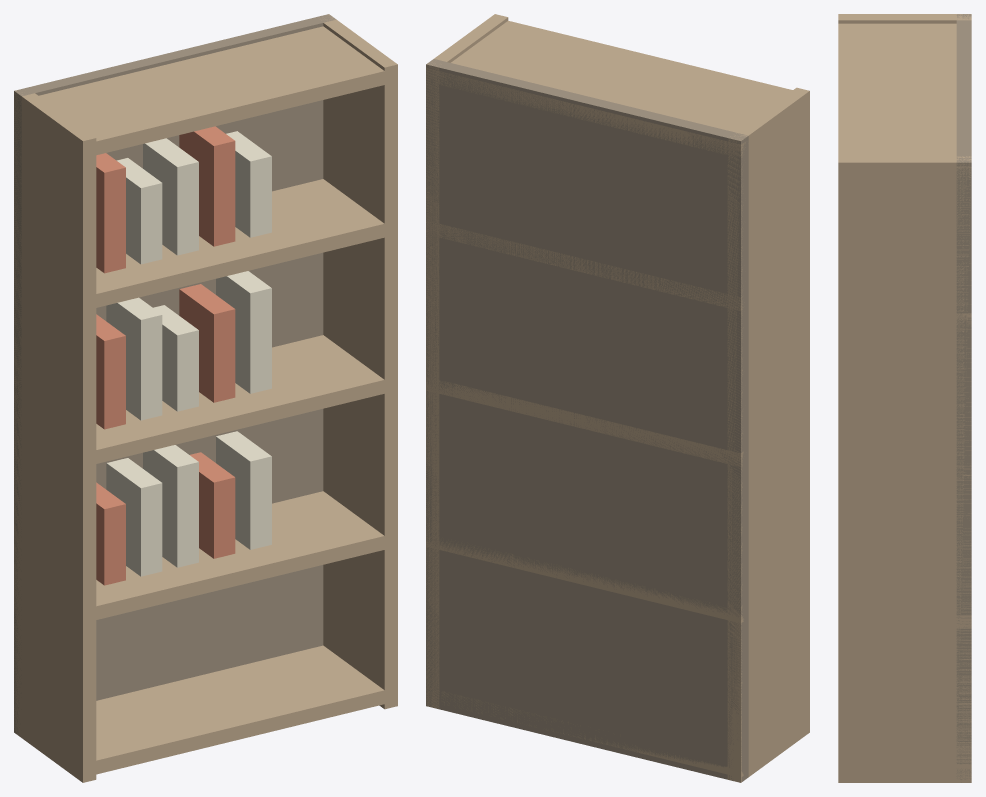
The picture shows the model from 3 angles, left to right: view 1: azimuth 30°, elevation 25°; view 2: azimuth 150°, elevation 25°; view 3: azimuth 270°, elevation 25°; orthographic projection. The views are drawn at different scales.
Parts seen in each view (by area): view 1: Bookshelf_01/Side_1, Bookshelf_01/Back_0, Bookshelf_01/Side_2, Bookshelf_01/Shelf_7, Bookshelf_01/Shelf_3, Bookshelf_01/Shelf_5, Bookshelf_01/Shelf_6, Bookshelf_01/Shelf_4, Bookshelf_01/Book_1_1_14, Bookshelf_01/Book_1_4_17, Bookshelf_01/Book_0_2_10, Bookshelf_01/Book_2_3_21 (+11 smaller); view 2: Bookshelf_01/Back_0, Bookshelf_01/Side_1, Bookshelf_01/Shelf_7, Bookshelf_01/Side_2, Bookshelf_01/Shelf_5, Bookshelf_01/Shelf_6, Bookshelf_01/Shelf_4, Bookshelf_01/Shelf_3; view 3: Bookshelf_01/Side_2, Bookshelf_01/Shelf_7, Bookshelf_01/Back_0, Bookshelf_01/Shelf_4, Bookshelf_01/Shelf_6, Bookshelf_01/Side_1, Bookshelf_01/Shelf_3, Bookshelf_01/Shelf_5.
Part boxes in pixels (left/top/right/bottom): Bookshelf_01/Side_1: left=14, top=90, right=96, bottom=782; Bookshelf_01/Back_0: left=14, top=14, right=336, bottom=735; Bookshelf_01/Side_2: left=320, top=14, right=397, bottom=709; Bookshelf_01/Shelf_7: left=22, top=26, right=397, bottom=158; Bookshelf_01/Shelf_3: left=59, top=645, right=397, bottom=777; Bookshelf_01/Shelf_5: left=14, top=335, right=397, bottom=466; Bookshelf_01/Shelf_6: left=22, top=179, right=397, bottom=310; Bookshelf_01/Shelf_4: left=14, top=491, right=397, bottom=623; Bookshelf_01/Book_1_1_14: left=106, top=297, right=162, bottom=420; Bookshelf_01/Book_1_4_17: left=216, top=271, right=271, bottom=393; Bookshelf_01/Book_0_2_10: left=143, top=445, right=198, bottom=567; Bookshelf_01/Book_2_3_21: left=179, top=126, right=235, bottom=246; Bookshelf_01/Back_0: left=426, top=59, right=748, bottom=781; Bookshelf_01/Side_1: left=727, top=87, right=809, bottom=782; Bookshelf_01/Shelf_7: left=426, top=20, right=809, bottom=157; Bookshelf_01/Side_2: left=426, top=14, right=508, bottom=708; Bookshelf_01/Shelf_5: left=426, top=378, right=809, bottom=466; Bookshelf_01/Shelf_6: left=426, top=221, right=808, bottom=310; Bookshelf_01/Shelf_4: left=426, top=540, right=809, bottom=623; Bookshelf_01/Shelf_3: left=439, top=691, right=772, bottom=777; Bookshelf_01/Side_2: left=838, top=156, right=971, bottom=782; Bookshelf_01/Shelf_7: left=838, top=23, right=971, bottom=179; Bookshelf_01/Back_0: left=956, top=14, right=971, bottom=782; Bookshelf_01/Shelf_4: left=838, top=615, right=971, bottom=628; Bookshelf_01/Shelf_6: left=838, top=313, right=971, bottom=326; Bookshelf_01/Side_1: left=838, top=14, right=971, bottom=23; Bookshelf_01/Shelf_3: left=838, top=764, right=971, bottom=769; Bookshelf_01/Shelf_5: left=838, top=464, right=971, bottom=477.
Size of the model in its own units: 0.95 by 1.85 by 0.36.
